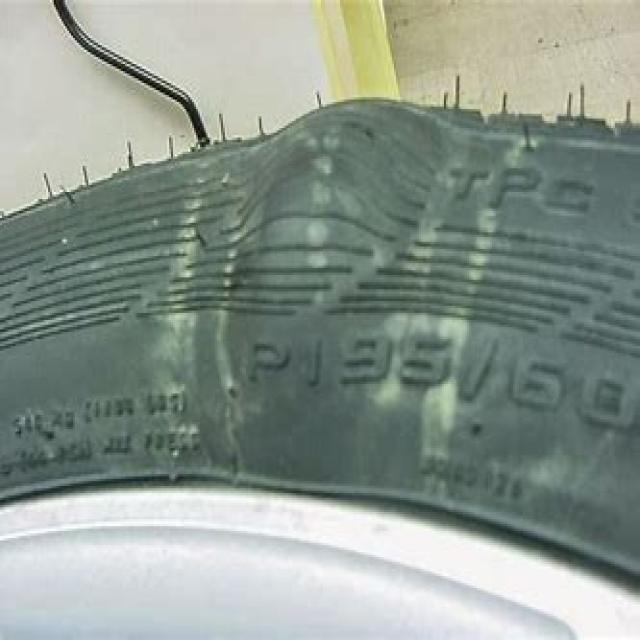Bulge: (235, 89, 467, 338)
